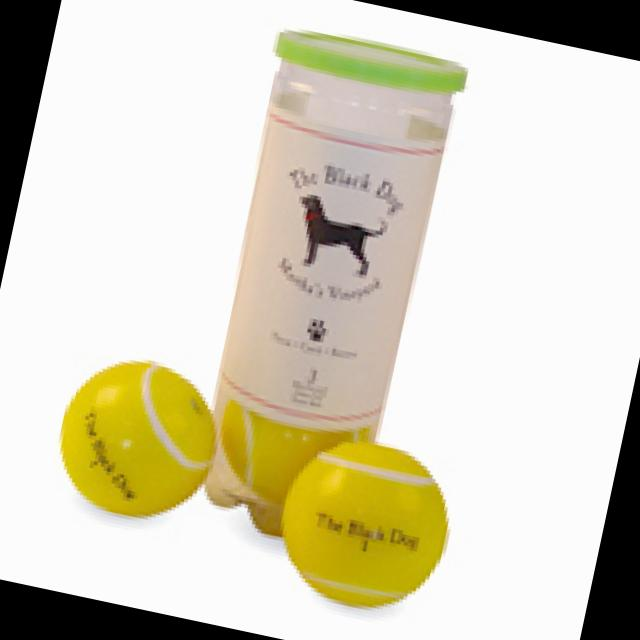Tennis Ball: (278, 439, 449, 612), (56, 359, 217, 522), (219, 399, 369, 508)
